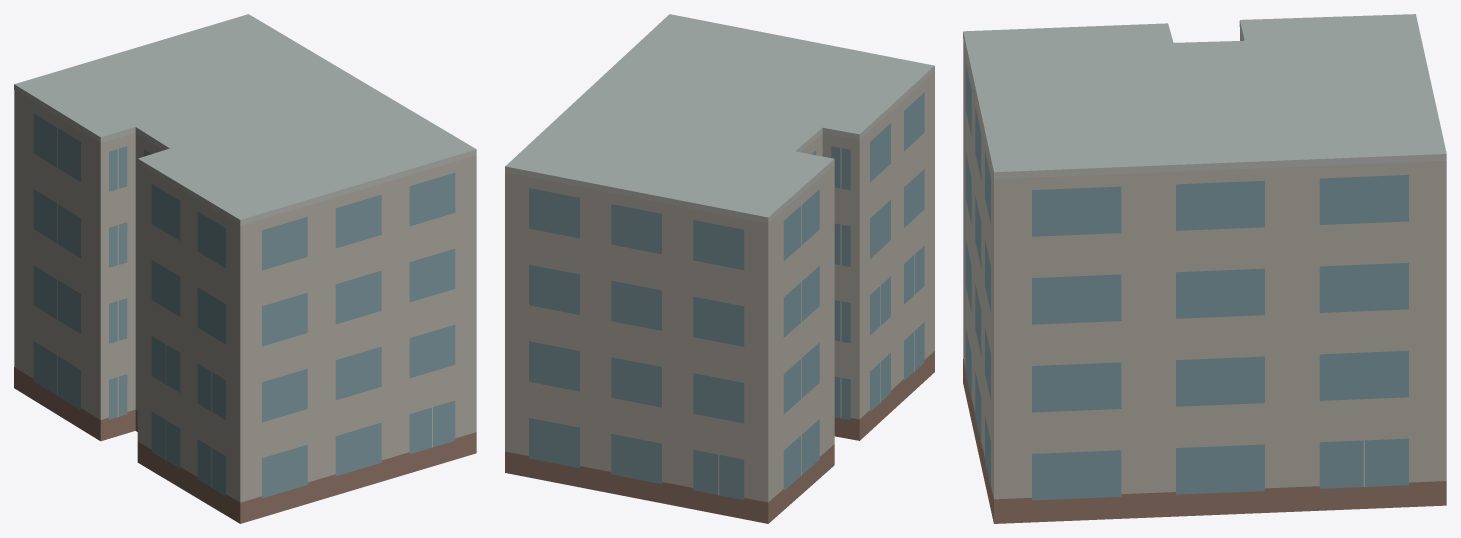
File: survey-upis-32626116.glb
3 views of the same model, side by side, from view 1: azimuth 30°, elevation 25°; view 2: azimuth 150°, elevation 25°; view 3: azimuth 270°, elevation 25° (orthographic). The views are drawn at different scales.
Visible parts, largest first — view 1: survey-upis-32626116.tmp; view 2: survey-upis-32626116.tmp; view 3: survey-upis-32626116.tmp.
Boxes of the visible parts, left/top/right/bottom form: survey-upis-32626116.tmp: left=14, top=14, right=476, bottom=523; survey-upis-32626116.tmp: left=505, top=14, right=934, bottom=523; survey-upis-32626116.tmp: left=963, top=14, right=1446, bottom=523.
Size of the model in its own units: 12.36 by 12.8 by 15.97.
